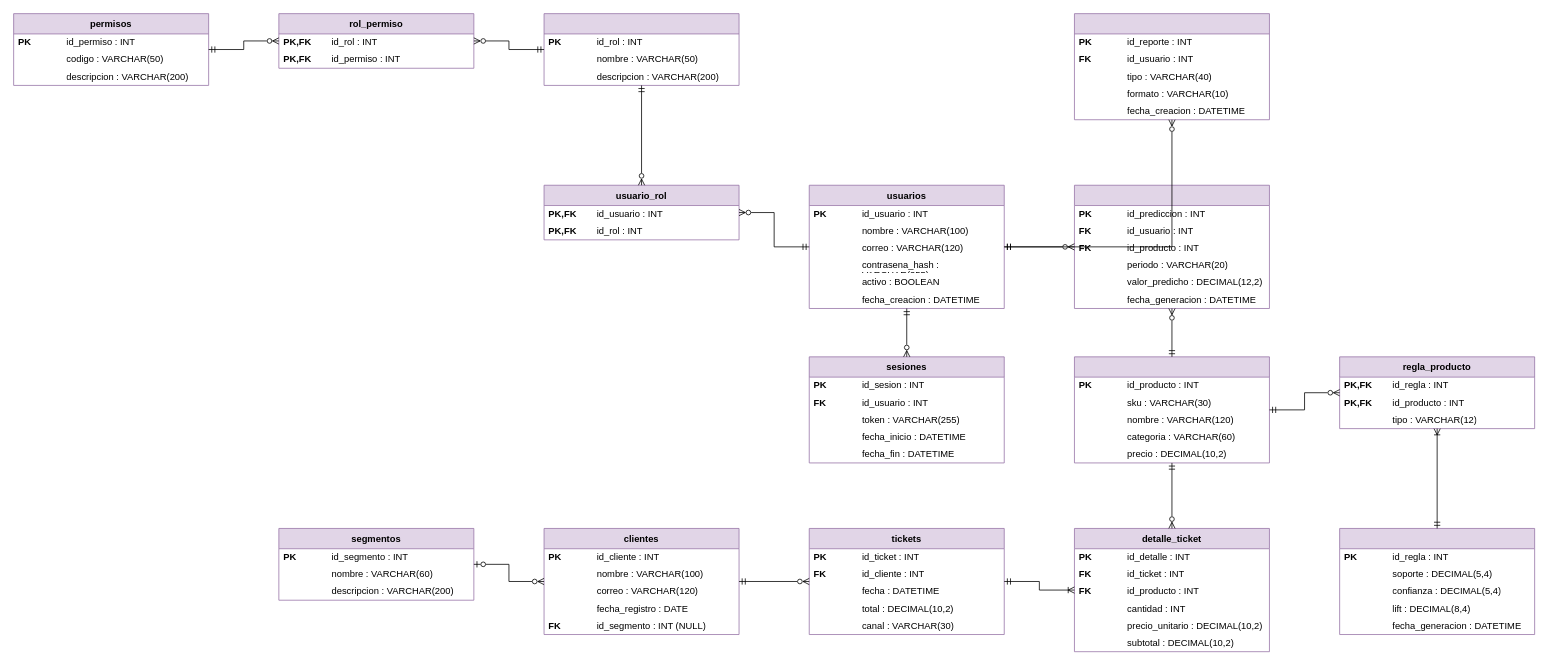
Some shapes in this 1548 by 665 pixel diagram are drawn without their labels. The shapes that lost their labels are listed below. From the top down, each one's box as (x1, y1, x2, y2) in pixels, then its label:
(543, 13, 739, 85): roles
(1074, 13, 1269, 120): reportes
(1074, 184, 1269, 308): predicciones
(1074, 356, 1269, 463): productos
(1339, 528, 1535, 635): reglas_asociacion
